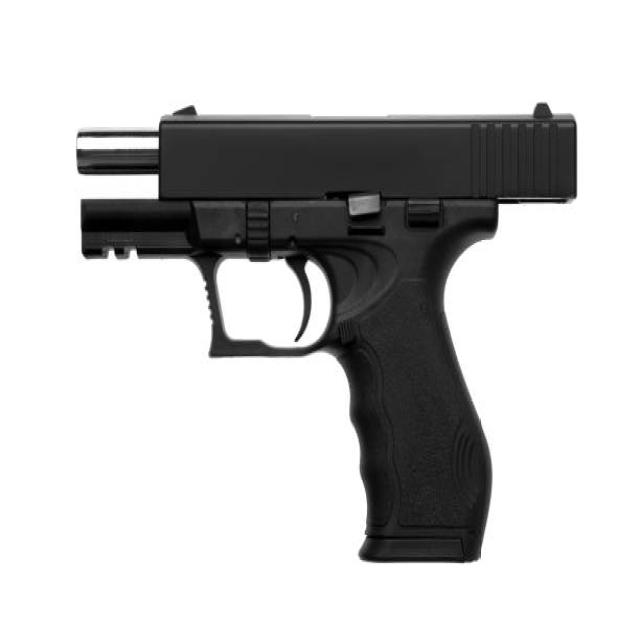pistol: (72, 90, 583, 582)
